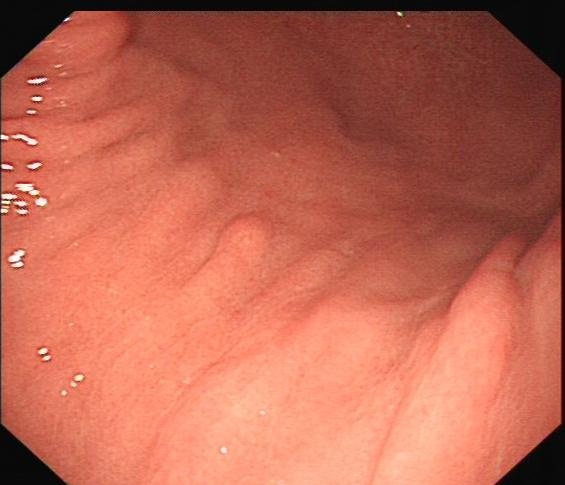Polyp: (212, 209, 270, 264)
